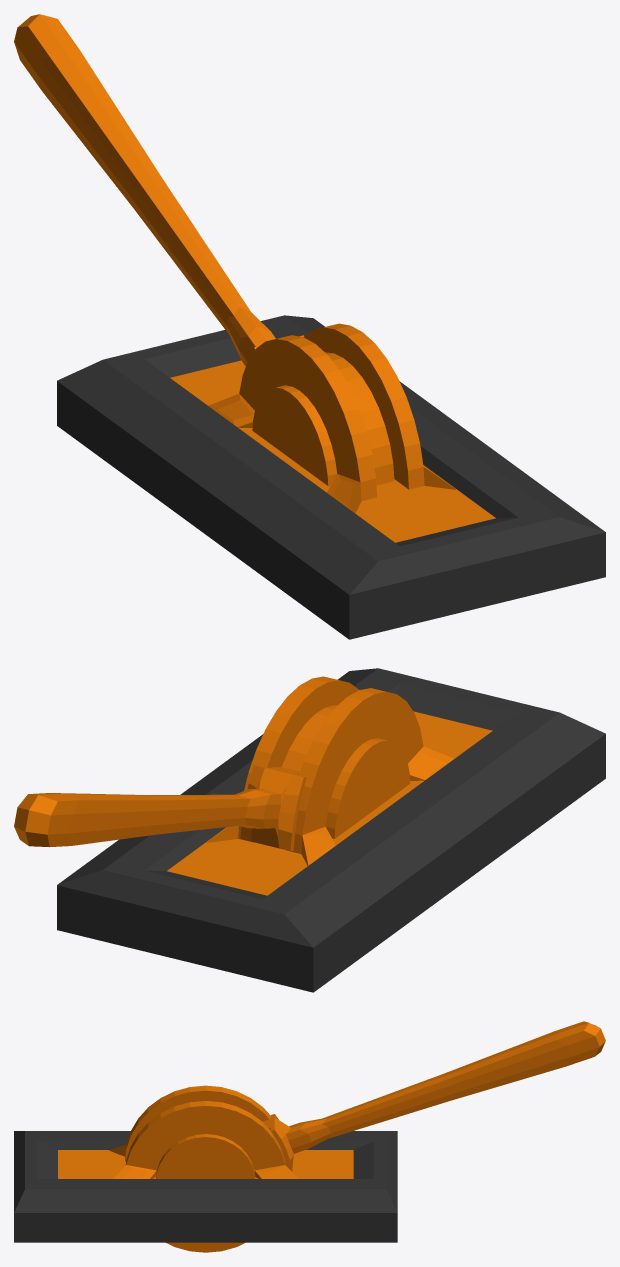
Rendered from Lever.fbx.
The picture shows the model from 3 angles, top to bottom: view 1: azimuth 30°, elevation 25°; view 2: azimuth 150°, elevation 25°; view 3: azimuth 270°, elevation 25°; orthographic projection. The views are drawn at different scales.
Visible parts, largest first — view 1: Cube, Cylinder, Cylinder.001; view 2: Cube, Cylinder, Cylinder.001; view 3: Cube, Cylinder, Cylinder.001.
Boxes of the visible parts, x1,y1,x2,y2 form: Cube: [57, 315, 605, 639]; Cylinder: [208, 323, 455, 512]; Cylinder.001: [14, 14, 394, 485]; Cube: [57, 668, 605, 992]; Cylinder: [206, 676, 454, 865]; Cylinder.001: [14, 705, 336, 851]; Cube: [14, 1131, 397, 1242]; Cylinder: [109, 1085, 298, 1252]; Cylinder.001: [262, 1021, 605, 1171].
Size of the model in its own units: 240 by 300 by 730.
